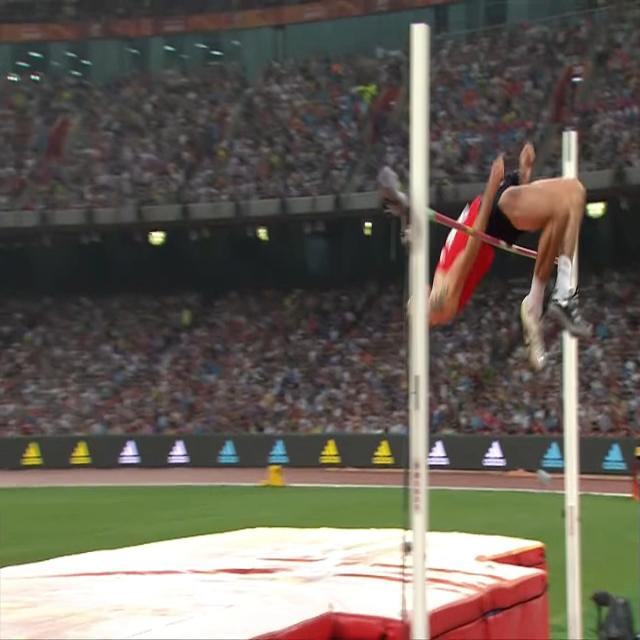jump: (404, 143, 592, 370)
